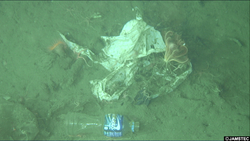plastic bag: (54, 9, 195, 104)
